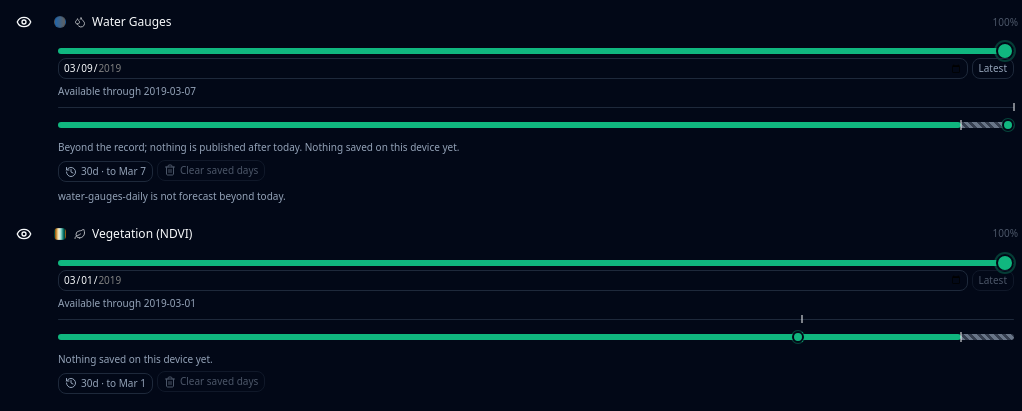
LayerRow history window chip › changes only the chosen layer's window, and never ends it past today
Click the button "30d · to Mar 7". click: (105, 172)
box: [58,161,153,182]
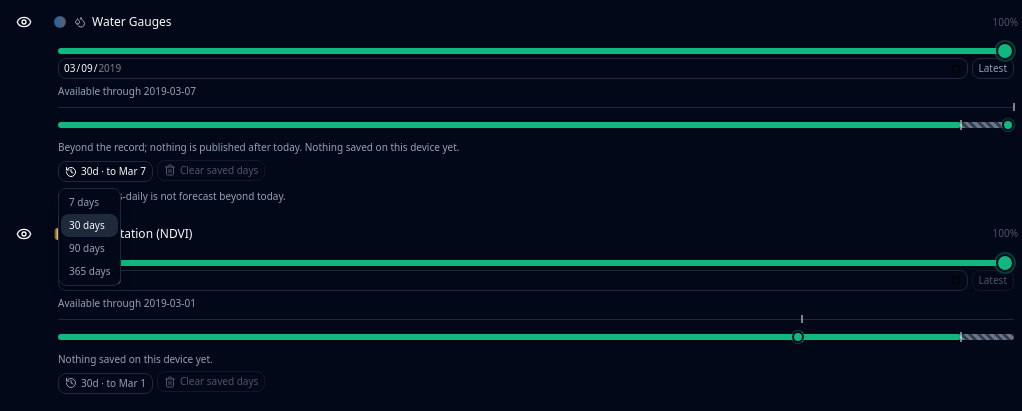
Click the menu item "7 days". click: (90, 202)
box: [61,190,118,214]
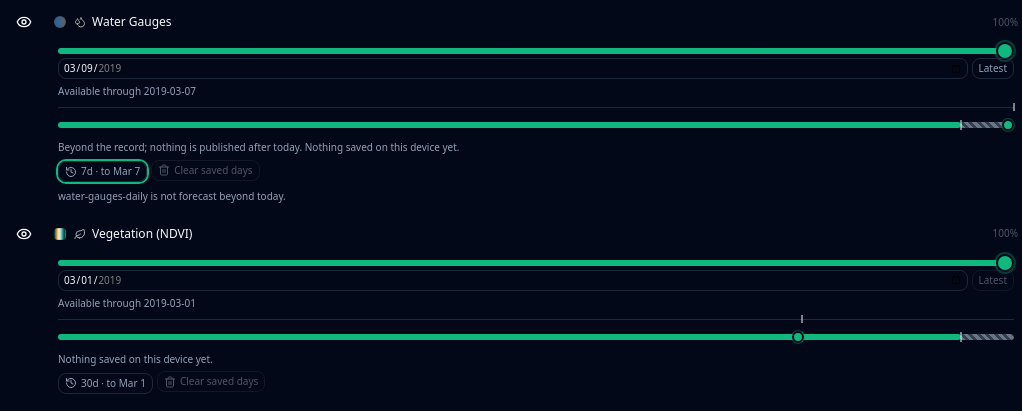
Expected: the menu is gone
